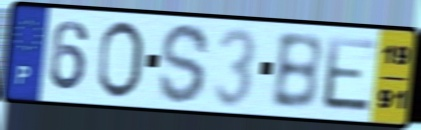3: (212, 23, 262, 112)
6: (49, 19, 90, 94)
B: (268, 31, 325, 113)
E: (321, 34, 380, 116)
O: (94, 18, 145, 101)
S: (156, 21, 213, 107)
